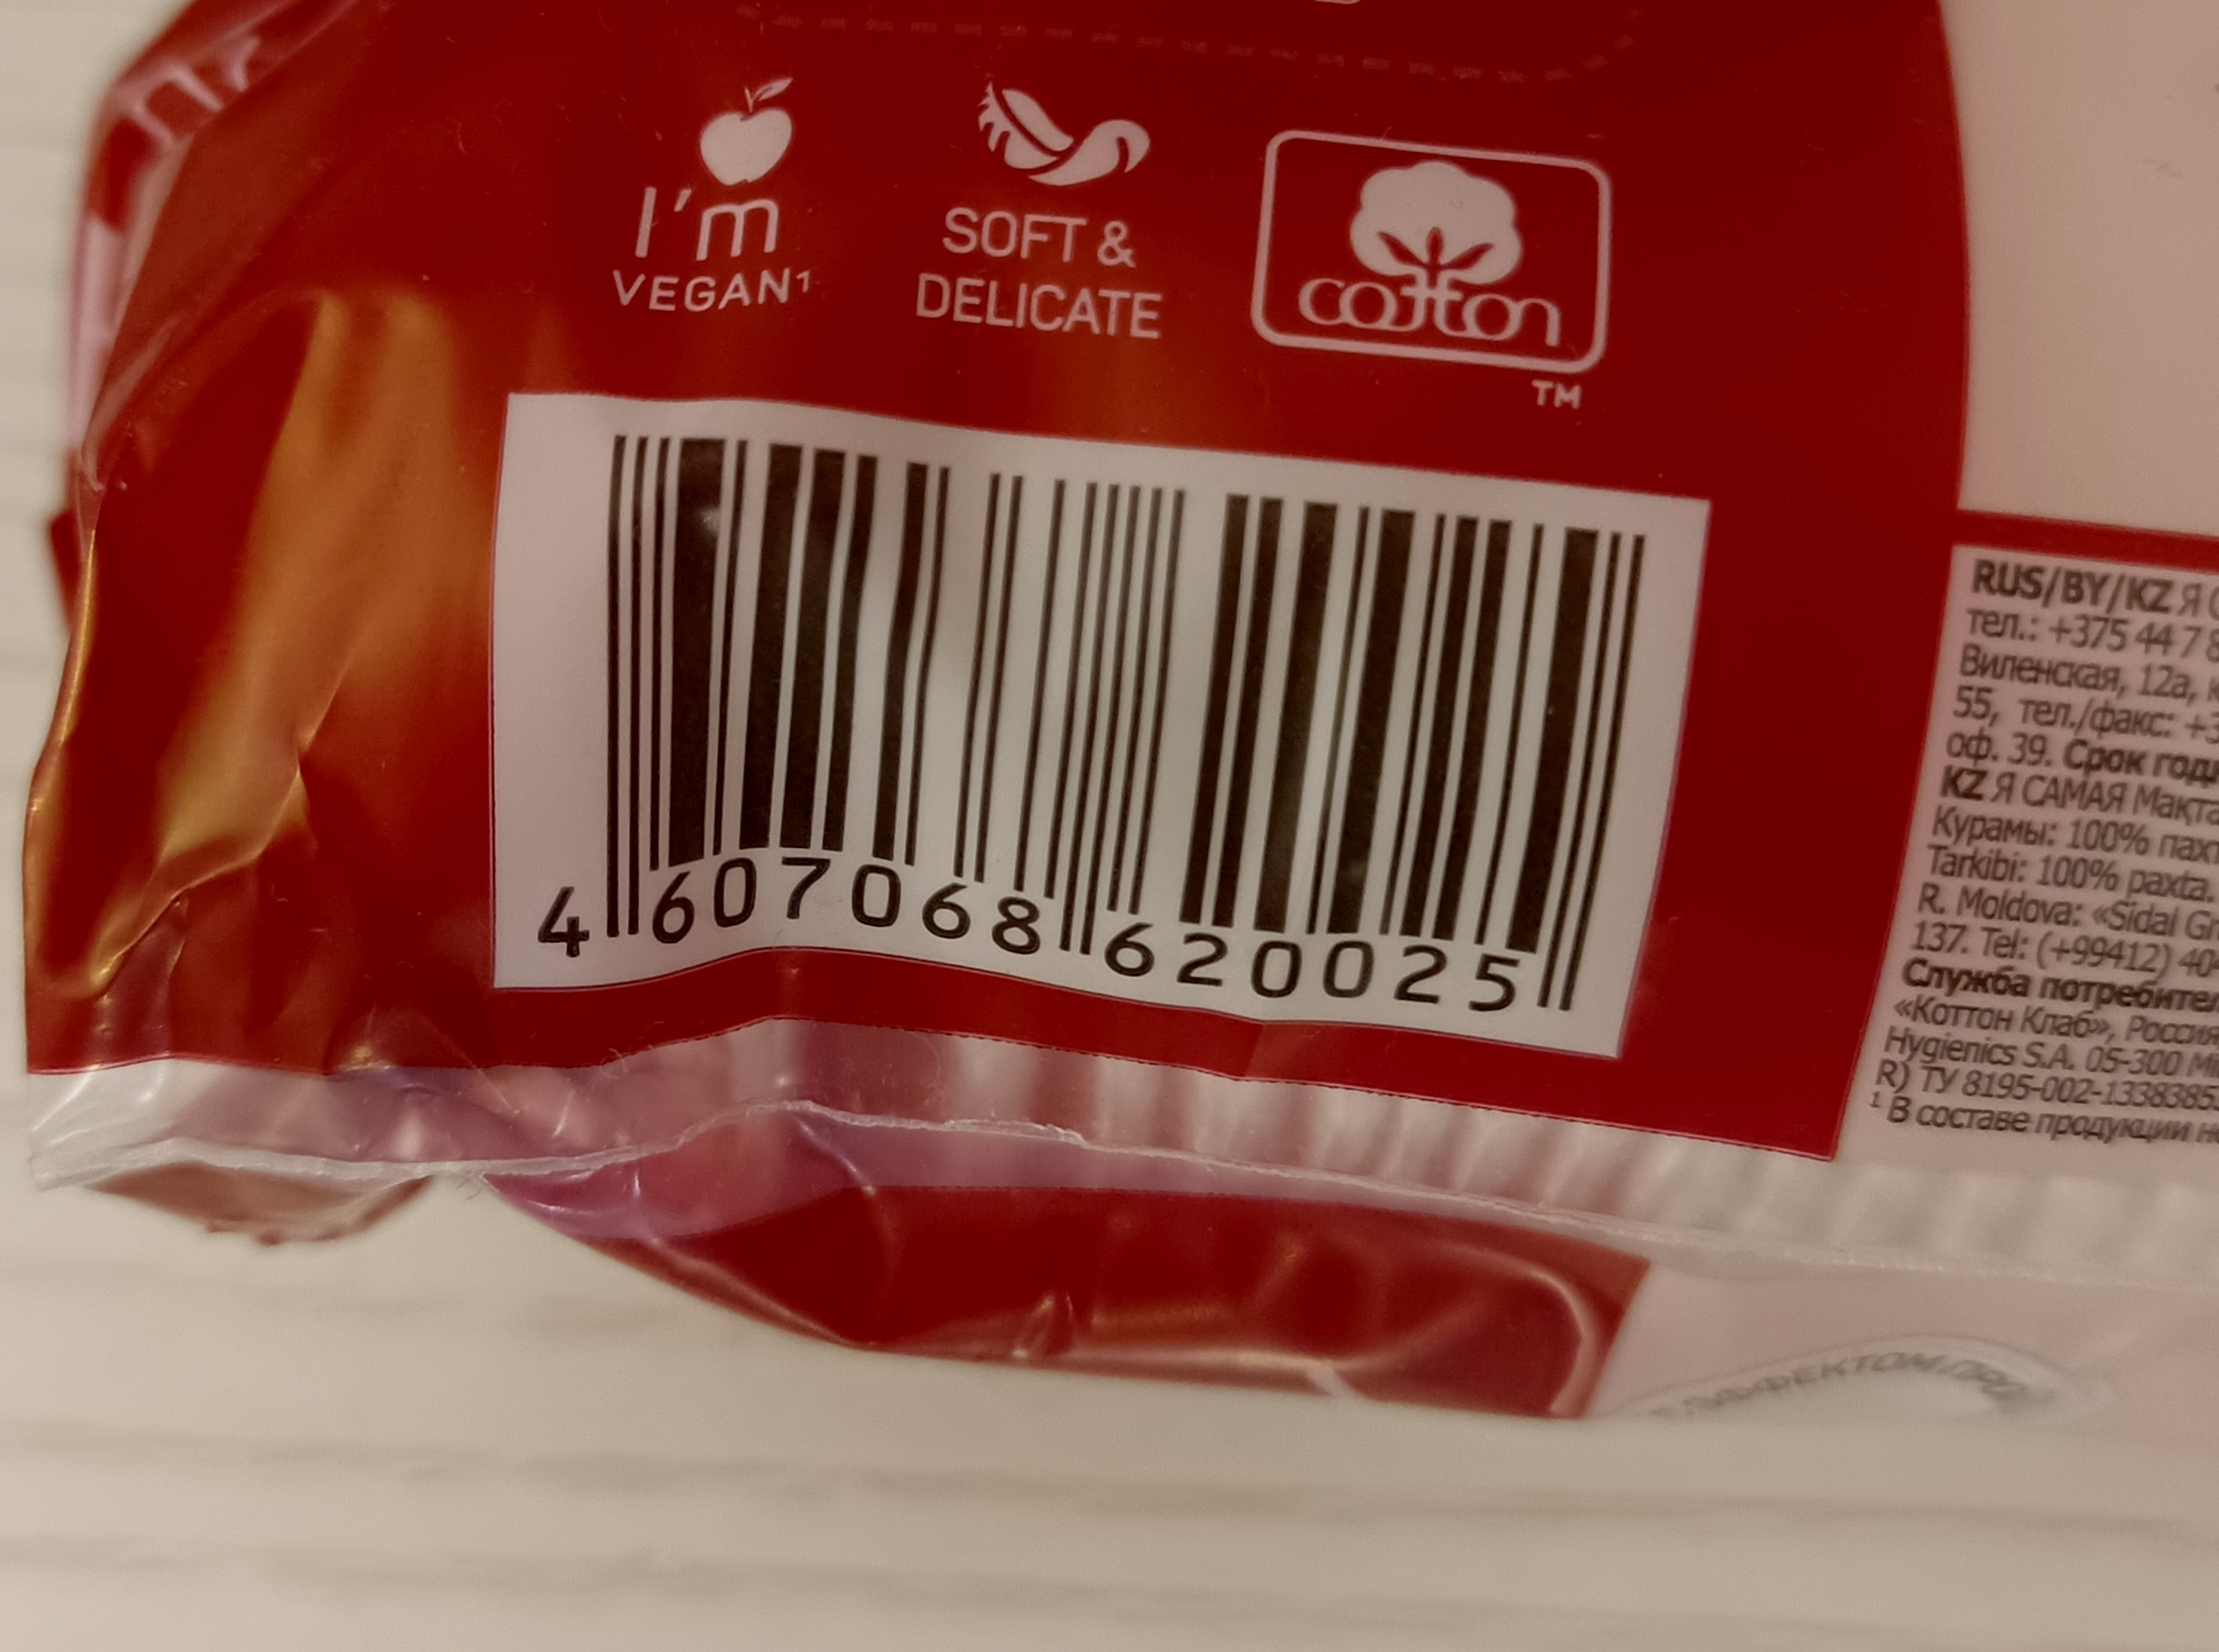1d: (600, 423, 1648, 960)
